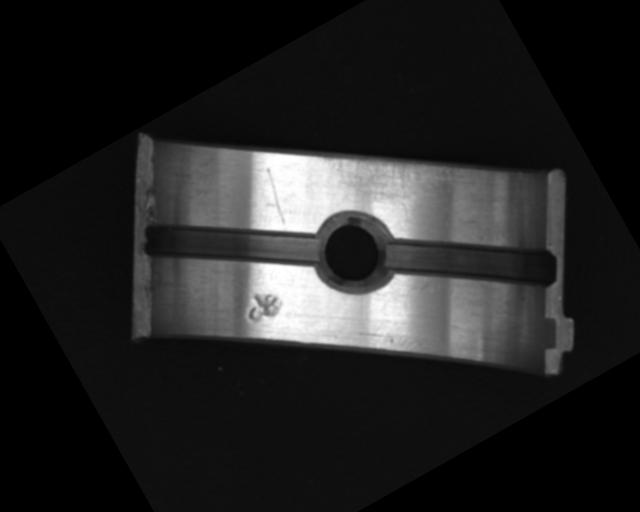bruise: (235, 278, 288, 329)
gap: (375, 175, 566, 351), (136, 157, 326, 330)
hole: (299, 198, 411, 312)
nick: (253, 166, 298, 228)
scratch: (314, 97, 470, 246)
